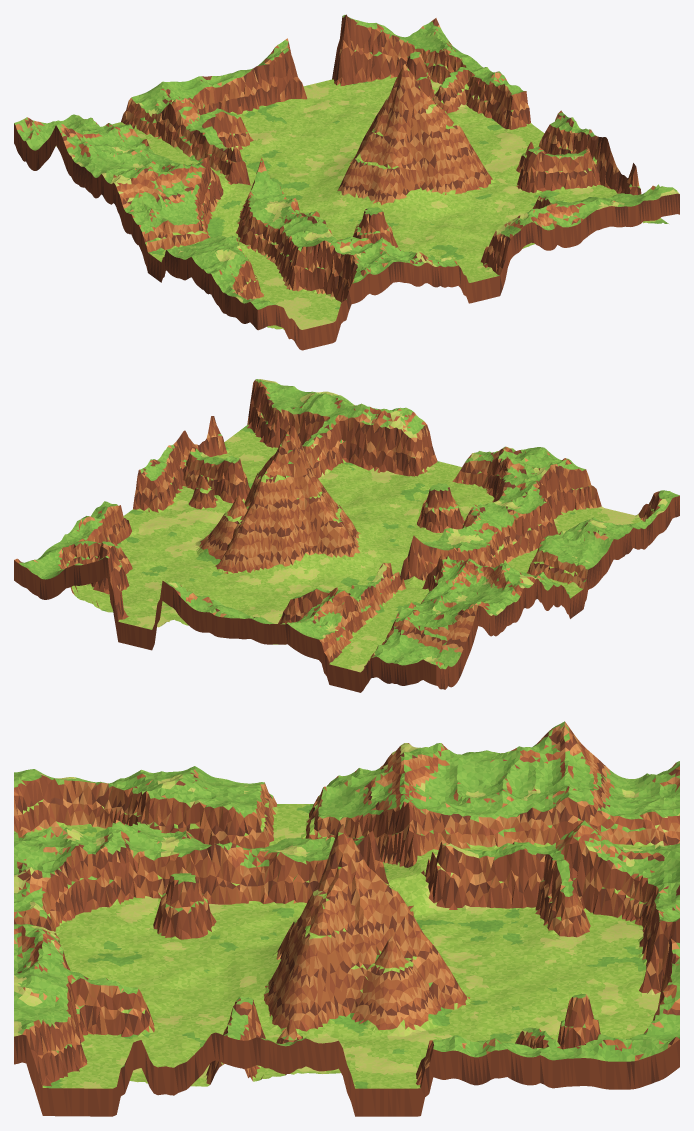
File: SM_Terrain_Play.glb
The picture shows the model from 3 angles, top to bottom: view 1: azimuth 30°, elevation 25°; view 2: azimuth 150°, elevation 25°; view 3: azimuth 270°, elevation 25°; orthographic projection. The views are drawn at different scales.
Visible parts, largest first — view 1: SM_Terrain_Play; view 2: SM_Terrain_Play; view 3: SM_Terrain_Play.
Part boxes in pixels (bbox=[...]): SM_Terrain_Play: bbox=[14, 14, 679, 350]; SM_Terrain_Play: bbox=[14, 379, 679, 692]; SM_Terrain_Play: bbox=[14, 721, 679, 1116].
Bounding box in the file's own units: 1296 × 423 × 1296.
Materials: 1 (1 with a texture image).
